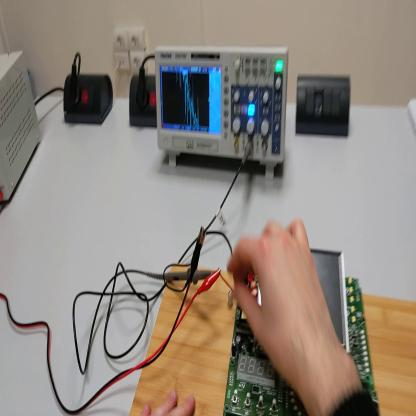hand: (227, 216, 341, 390), (143, 393, 197, 416)
low voltage board: (206, 228, 384, 416)
oscilloscope: (155, 37, 291, 182)
oscilloscope probe tip: (156, 270, 215, 280)
power supply: (1, 50, 44, 203)
socket: (63, 71, 116, 129), (129, 72, 158, 129)
working area: (131, 252, 416, 416)
